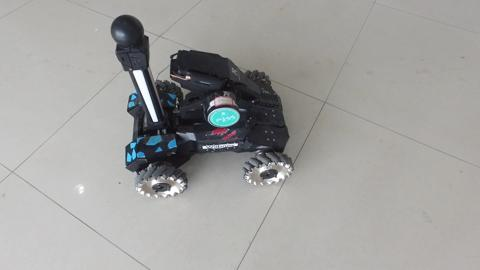chariot: (98, 7, 322, 195)
